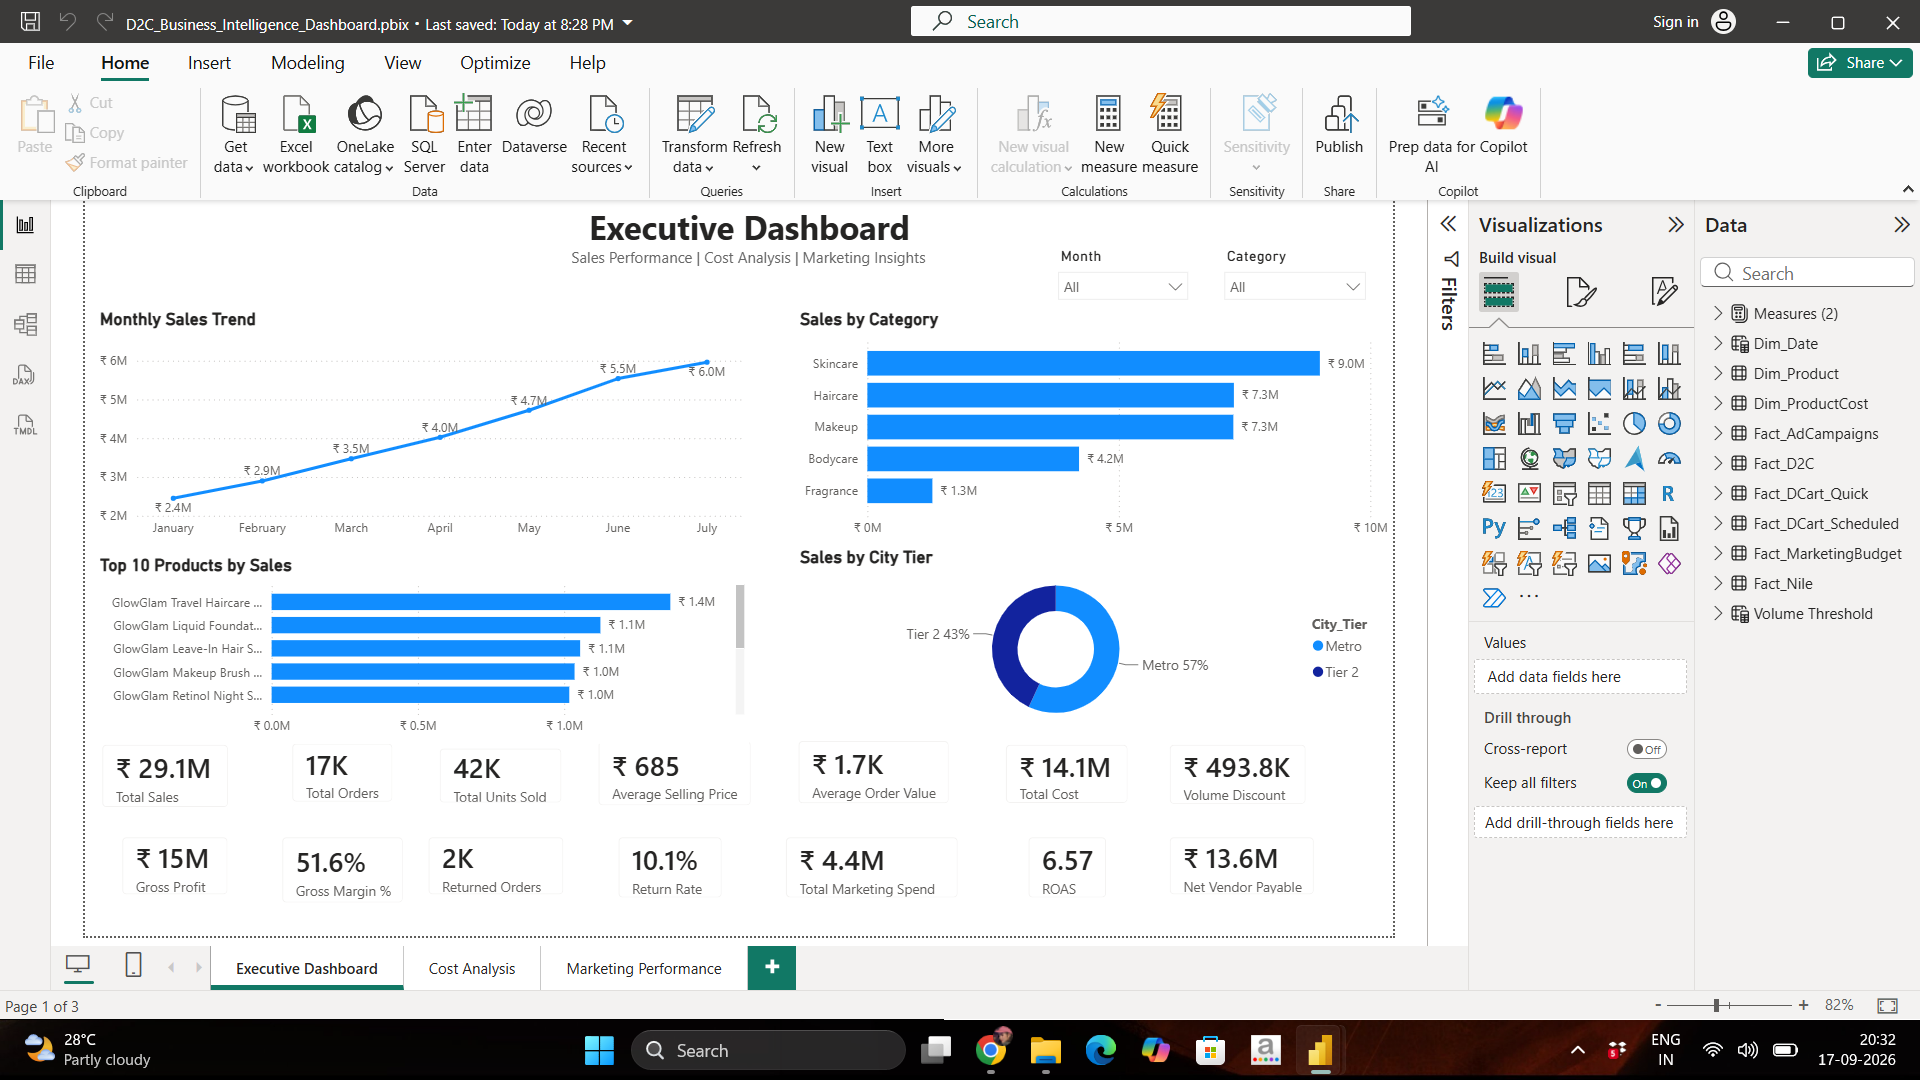

What the dashboard file says about the page in this screenshot:
{"tool":"powerbi","page":{"name":"Executive Dashboard","canvas":[1280,720],"ordinal":0},"visuals":[{"type":"cardVisual","fields":{"Data":["Measures (2).Total Sales"]},"box":[0,516.2,157.5,95],"z":0},{"type":"cardVisual","fields":{"Data":["Measures (2).Total Orders"]},"box":[186.2,515,132.5,91.2],"z":1000},{"type":"cardVisual","fields":{"Data":["Measures (2).Total Units Sold"]},"box":[330,520,153.8,87.5],"z":2000},{"type":"cardVisual","fields":{"Data":["Measures (2).Average Selling Price"]},"box":[485,512.5,183.8,97.5],"z":3000},{"type":"cardVisual","fields":{"Data":["Measures (2).Average Order Value"]},"box":[681.2,512.5,181.2,95],"z":4000},{"type":"cardVisual","fields":{"Data":["Measures (2).Total Cost"]},"box":[883.8,516.2,153.8,91.2],"z":5000},{"type":"cardVisual","fields":{"Data":["Measures (2).Gross Profit"]},"box":[20,606.2,137.5,90],"z":6000},{"type":"cardVisual","fields":{"Data":["Measures (2).Gross Margin %"]},"box":[176.2,606.2,152.5,98.8],"z":7000},{"type":"cardVisual","fields":{"Data":["Measures (2).Returned Orders"]},"box":[318.8,606.2,166.2,90],"z":8000},{"type":"cardVisual","fields":{"Data":["Measures (2).Return Rate"]},"box":[505,606.2,135,93.8],"z":9000},{"type":"cardVisual","fields":{"Data":["Measures (2).Total Marketing Spend"]},"box":[668.8,606.2,202.5,93.8],"z":10000},{"type":"cardVisual","fields":{"Data":["Measures (2).ROAS"]},"box":[906.2,606.2,110,93.8],"z":11000},{"type":"lineChart","title":"Monthly Sales Trend","fields":{"Y":["Measures (2).Total Sales"],"Category":["Dim_Date.Month Name"]},"box":[10,106.2,638.8,232.5],"z":12000},{"type":"clusteredBarChart","title":"Sales by Category","fields":{"Category":["Dim_Product.Category"],"Y":["Measures (2).Total Sales"]},"box":[695,106.2,585,232.5],"z":13000},{"type":"donutChart","title":"Sales by City Tier","fields":{"Category":["Fact_D2C.City_Tier"],"Y":["Measures (2).Total Sales"]},"box":[695,338.8,582.5,185],"z":14000},{"type":"clusteredBarChart","title":"Top 10 Products by Sales","fields":{"Category":["Dim_Product.Product_Name"],"Y":["Measures (2).Total Sales"]},"box":[10,347.5,640,185],"z":15000},{"type":"textbox","box":[485,0,328.8,58.8],"z":16000},{"type":"textbox","box":[462.5,40,373.8,33.8],"z":17000},{"type":"cardVisual","fields":{"Data":["Measures (2).Volume Discount"]},"box":[1043.8,516.2,167.5,92.5],"z":18000},{"type":"cardVisual","fields":{"Data":["Measures (2).Net Vendor Payable"]},"box":[1043.8,606.2,175,90],"z":19000},{"type":"slicer","fields":{"Values":["Dim_Date.Month Name"]},"box":[941.2,41.2,147.5,63.8],"z":20000},{"type":"slicer","fields":{"Values":["Dim_Product.Category"]},"box":[1103.8,41.2,158.8,67.5],"z":21000}]}

Visuals, with their boxes on the page's 1280x720 design canvas (x1, y1, x2, y2). These are canvas units, not pixel positions in the 1920x1080 screenshot, which may show the page scaled, cropped or inside an application window:
cardVisual - Measures (2).Total Sales: box(0, 516, 158, 611)
cardVisual - Measures (2).Total Orders: box(186, 515, 319, 606)
cardVisual - Measures (2).Total Units Sold: box(330, 520, 484, 608)
cardVisual - Measures (2).Average Selling Price: box(485, 512, 669, 610)
cardVisual - Measures (2).Average Order Value: box(681, 512, 862, 608)
cardVisual - Measures (2).Total Cost: box(884, 516, 1038, 607)
cardVisual - Measures (2).Gross Profit: box(20, 606, 158, 696)
cardVisual - Measures (2).Gross Margin %: box(176, 606, 329, 705)
cardVisual - Measures (2).Returned Orders: box(319, 606, 485, 696)
cardVisual - Measures (2).Return Rate: box(505, 606, 640, 700)
cardVisual - Measures (2).Total Marketing Spend: box(669, 606, 871, 700)
cardVisual - Measures (2).ROAS: box(906, 606, 1016, 700)
"Monthly Sales Trend" lineChart: box(10, 106, 649, 339)
"Sales by Category" clusteredBarChart: box(695, 106, 1280, 339)
"Sales by City Tier" donutChart: box(695, 339, 1278, 524)
"Top 10 Products by Sales" clusteredBarChart: box(10, 348, 650, 532)
textbox: box(485, 0, 814, 59)
textbox: box(462, 40, 836, 74)
cardVisual - Measures (2).Volume Discount: box(1044, 516, 1211, 609)
cardVisual - Measures (2).Net Vendor Payable: box(1044, 606, 1219, 696)
slicer - Dim_Date.Month Name: box(941, 41, 1089, 105)
slicer - Dim_Product.Category: box(1104, 41, 1263, 109)
